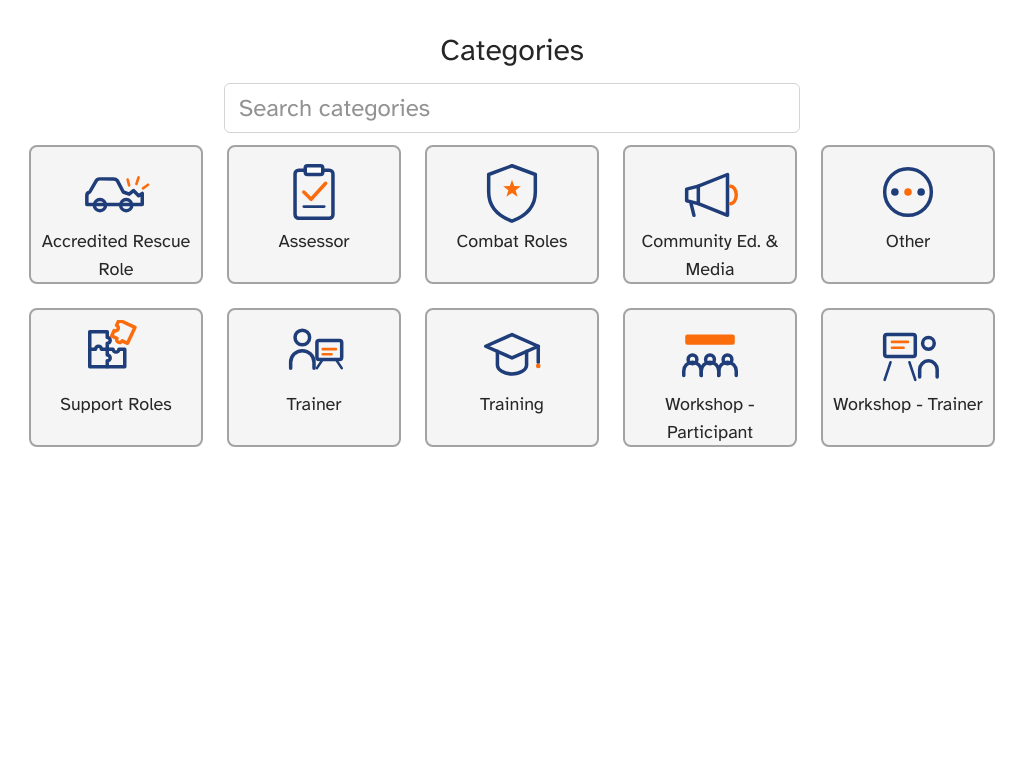
Test: ScanScreenCategories search › keeps the tiles until there are two letters
Type "s" into the search field. click: (512, 108)
box: [224,83,800,133]
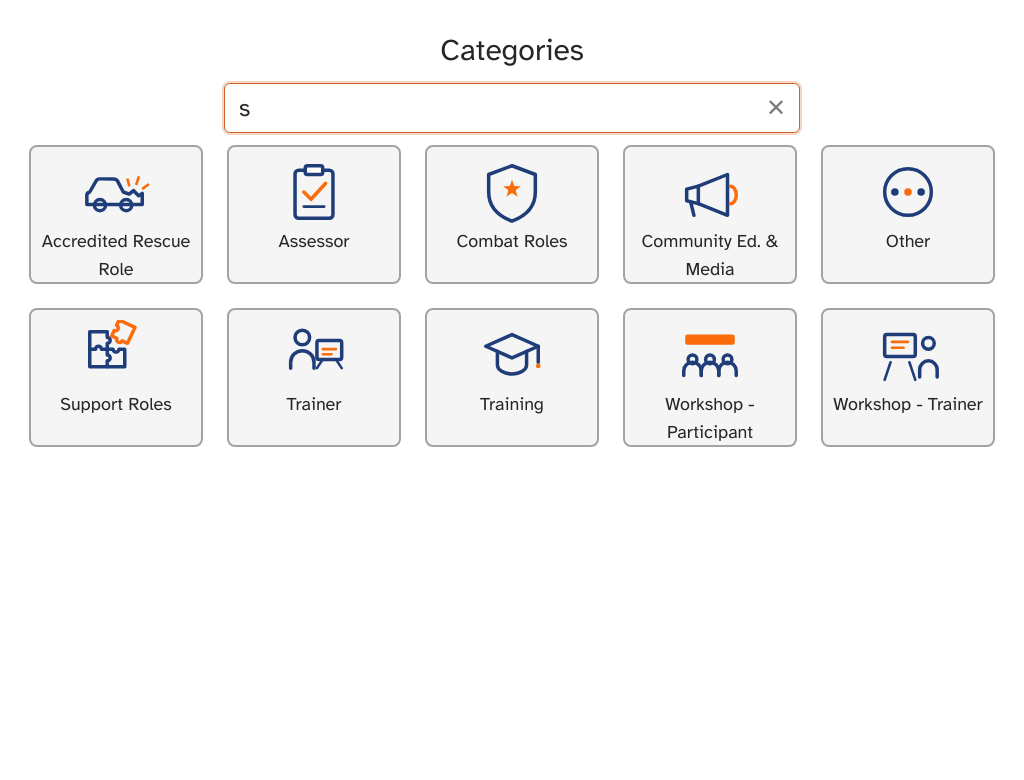
Check: the button "Training" is shown, box [425,308,599,447]
Type "t" into the search field. click: (512, 108)
box: [224,83,800,133]
(page scrolled)
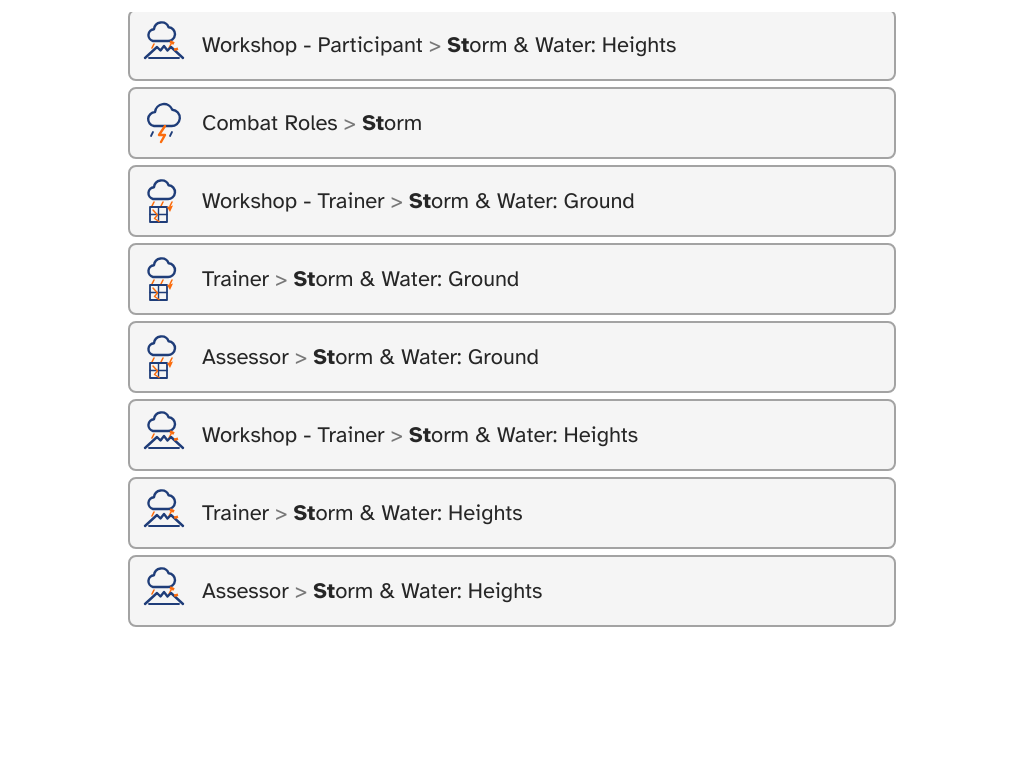
Check: the list named "Search results" is shown, box [128,12,896,627]
Check: the button "Training" is gone
